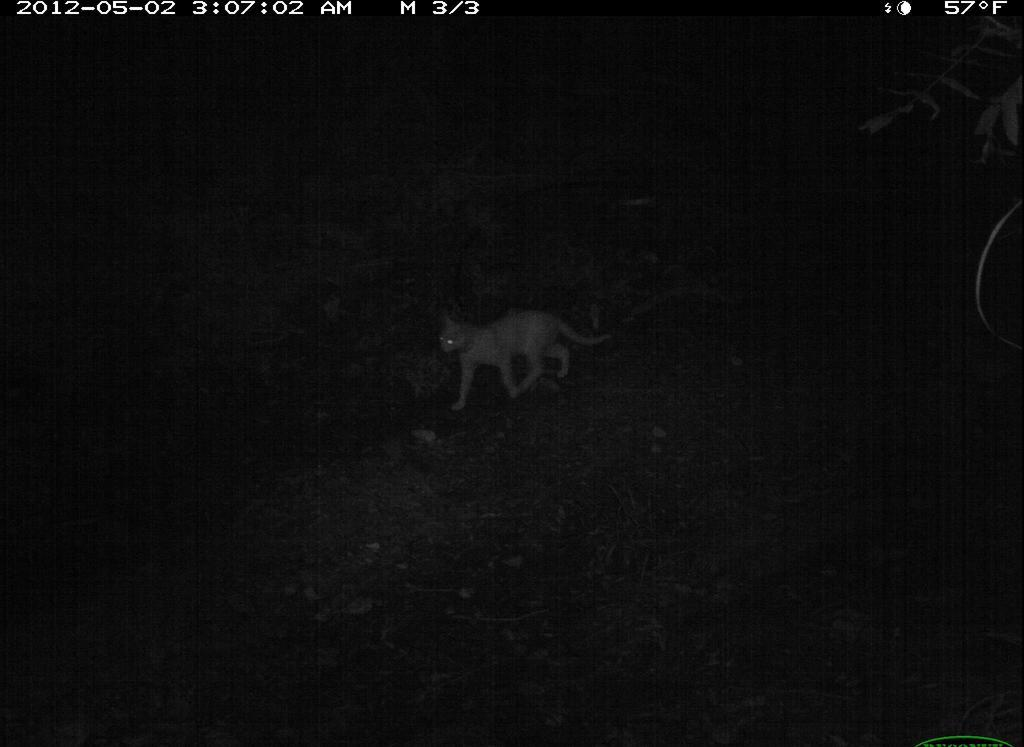cat: (415, 274, 626, 447)
